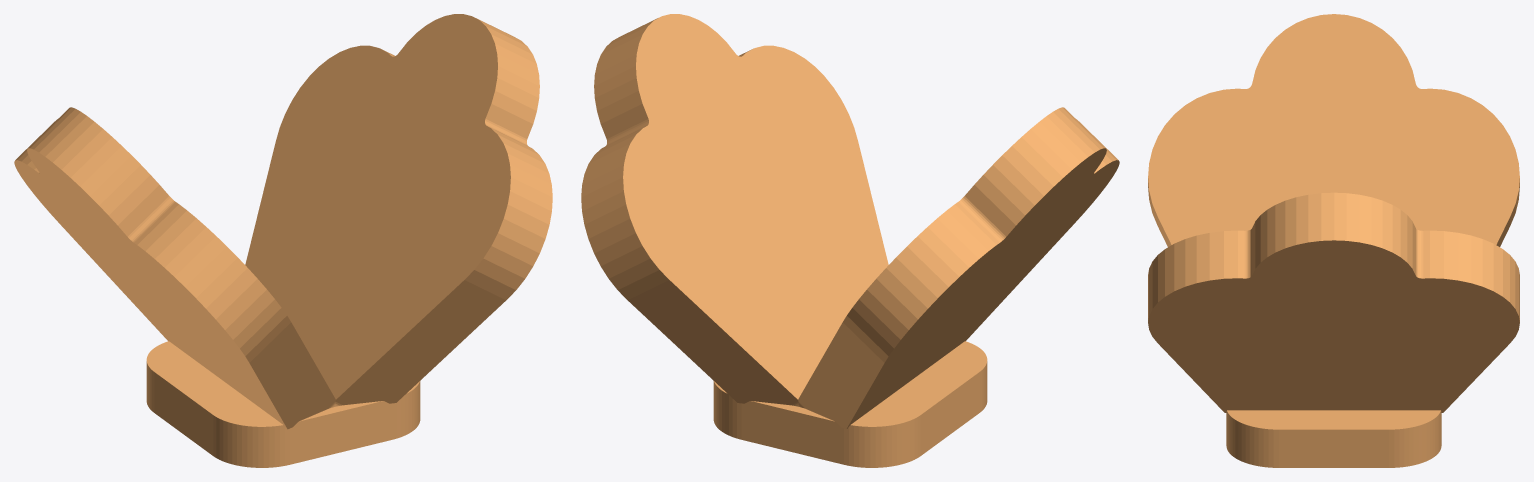
File: cloud-wings.glb
The picture shows the model from 3 angles, left to right: view 1: azimuth 30°, elevation 25°; view 2: azimuth 150°, elevation 25°; view 3: azimuth 270°, elevation 25°; orthographic projection. The views are drawn at different scales.
Visible parts, largest first — view 1: cloud-wings; view 2: cloud-wings; view 3: cloud-wings.
Boxes of the visible parts, x1=… form: cloud-wings: x1=14, y1=14, x2=552, y2=467; cloud-wings: x1=581, y1=14, x2=1119, y2=467; cloud-wings: x1=1148, y1=14, x2=1519, y2=467.
Bounding box in the file's own units: 0.0582 × 0.0399 × 0.0422.
